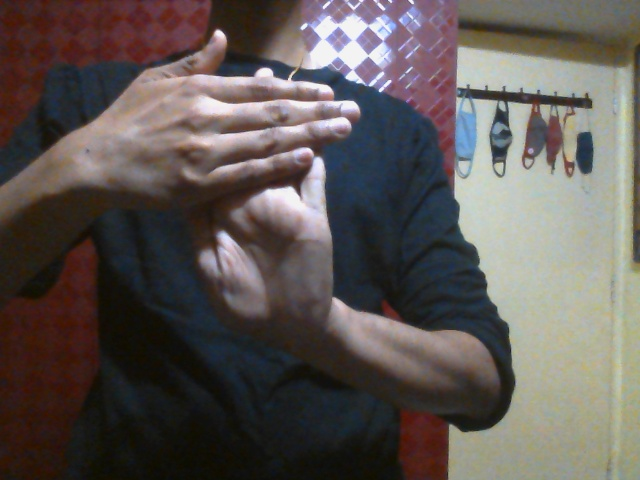H: (106, 28, 364, 344)
